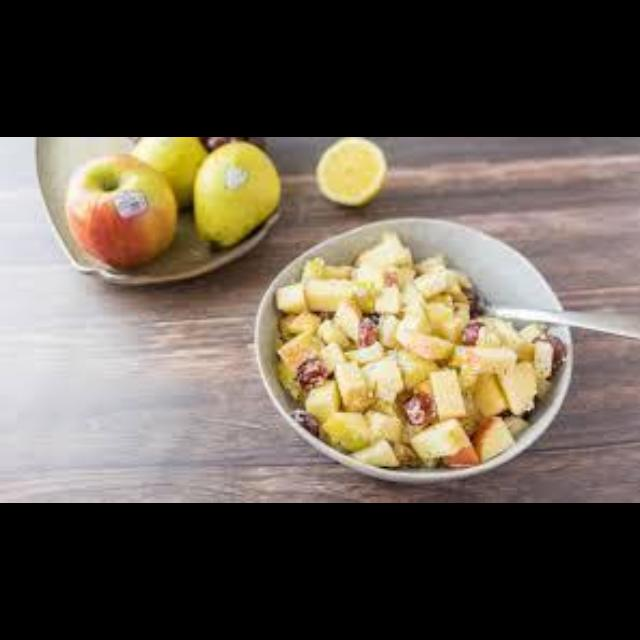apple: (65, 154, 177, 268)
